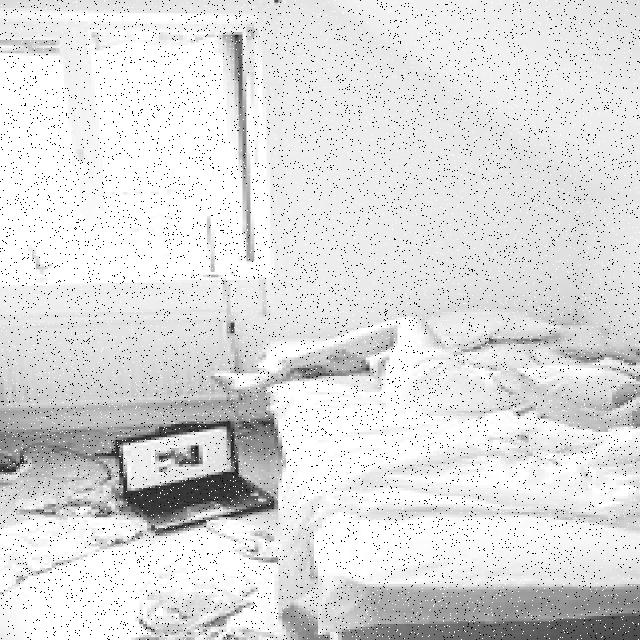bed: (234, 301, 640, 637)
